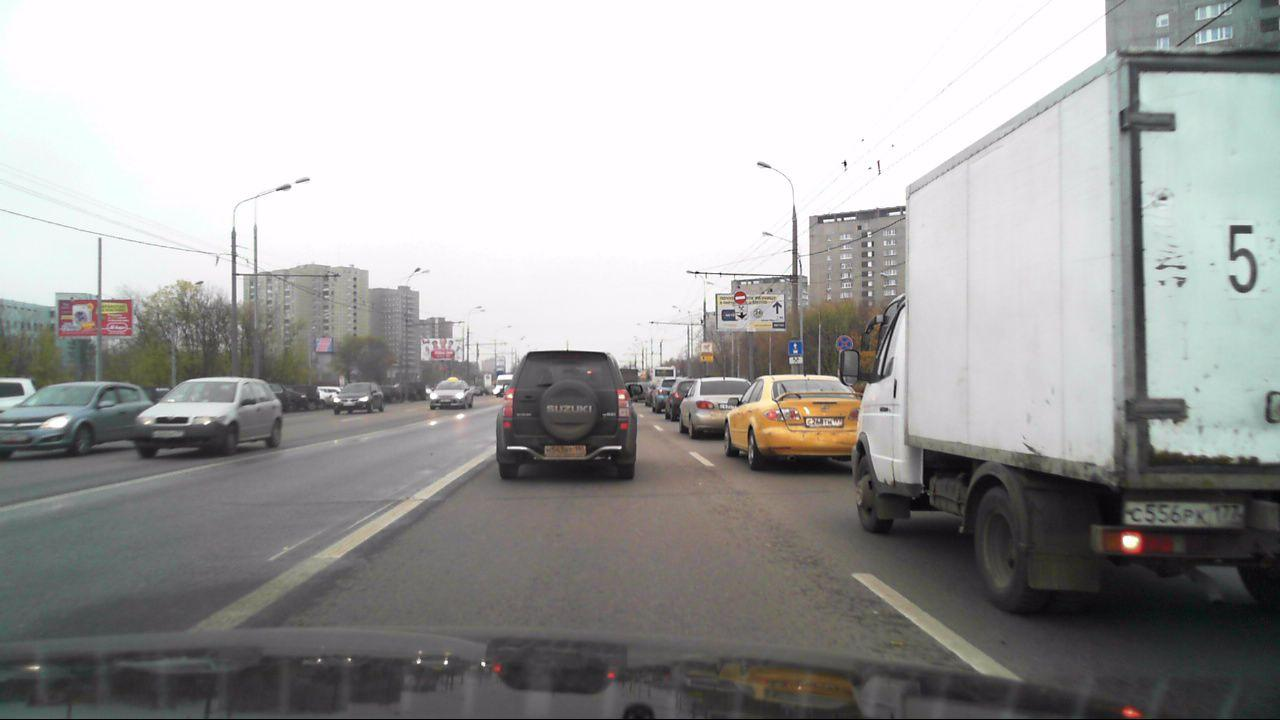3_1: (733, 291, 747, 304)
3_27: (837, 335, 853, 350)
5_14_1: (788, 340, 804, 356)
8_14: (735, 312, 748, 320)
8_5_2: (735, 304, 748, 313), (787, 357, 803, 364)
